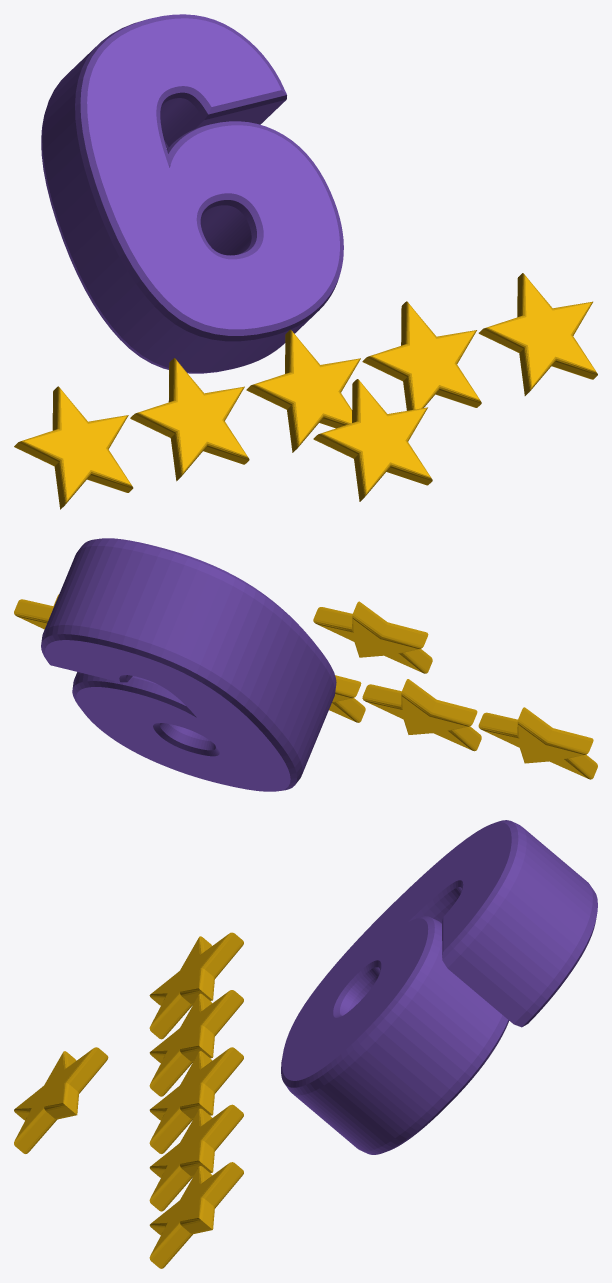
Rendered from num_6.glb.
The picture shows the model from 3 angles, top to bottom: view 1: azimuth 30°, elevation 25°; view 2: azimuth 150°, elevation 25°; view 3: azimuth 270°, elevation 25°; orthographic projection.
Size of the model in its own units: 2.08 by 1.03 by 1.81.
